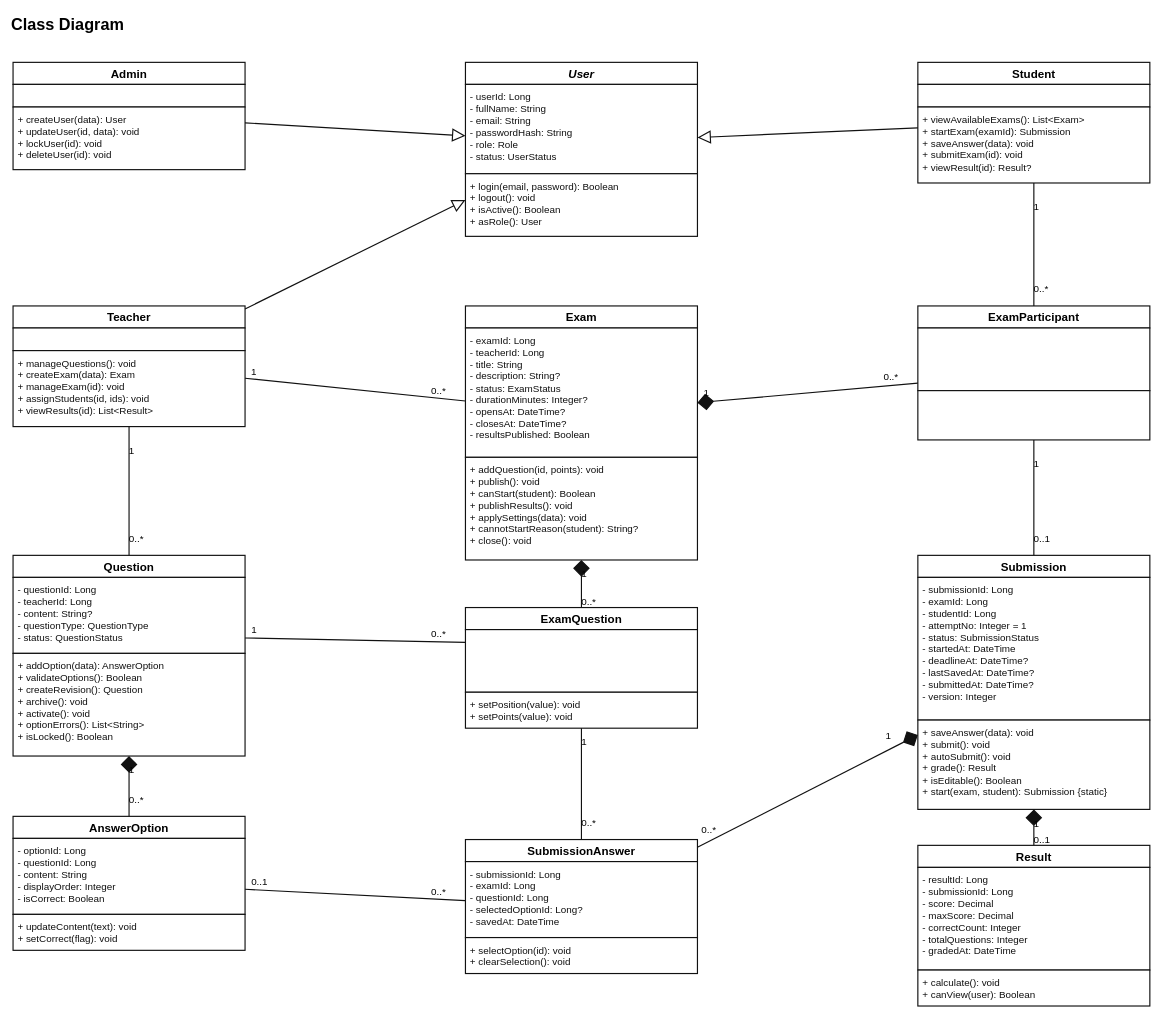
The diagram is 1160 pixels wide and 1016 high, and some of its shapes have lost their labels. The shapes that lost their labels are listed below. From the top down, each one's box as (x1, y1, x2, y2) in pixels, then its label:
(917, 327, 1150, 391): - examId: Long - studentId: Long - assignedAt: DateTime - isActive: Boolean
(917, 390, 1150, 440): + grantAccess(): void + revokeAccess(): void + canParticipate(): Boolean
(465, 629, 698, 693): - examId: Long - questionId: Long - position: Integer - points: Decimal
